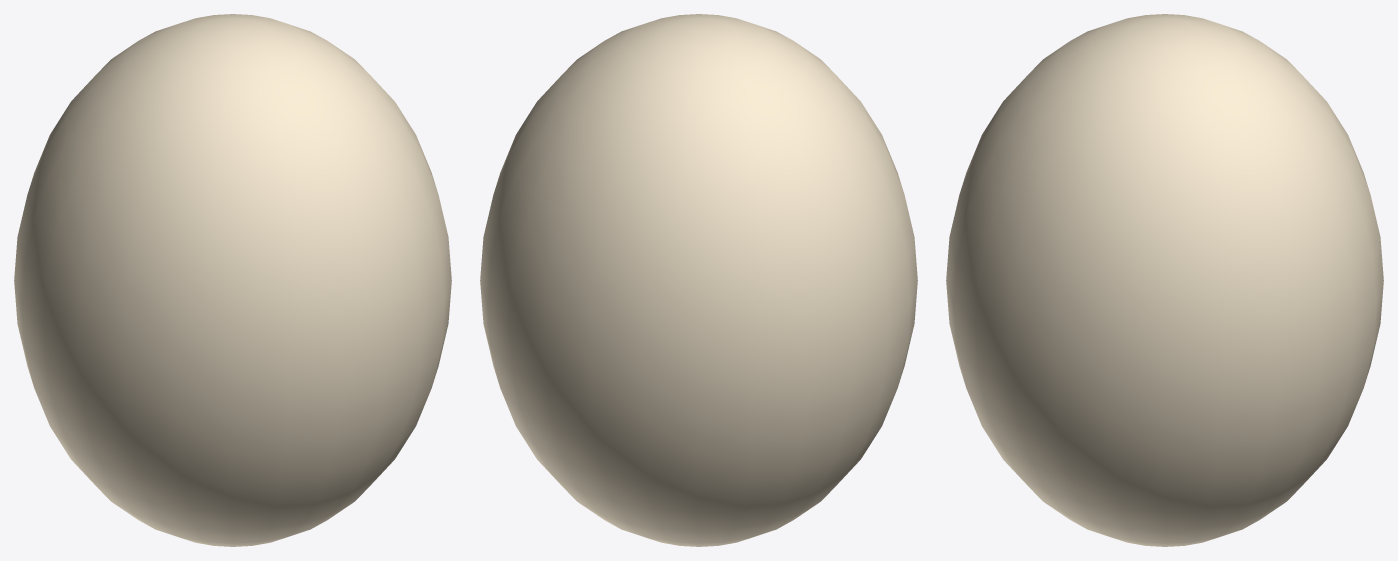
File: shared_food_egg.glb
3 renders of one model, left to right at view 1: azimuth 30°, elevation 25°; view 2: azimuth 150°, elevation 25°; view 3: azimuth 270°, elevation 25°, orthographic.
Bounding box in the file's own units: 0.09 × 0.1134 × 0.09.
